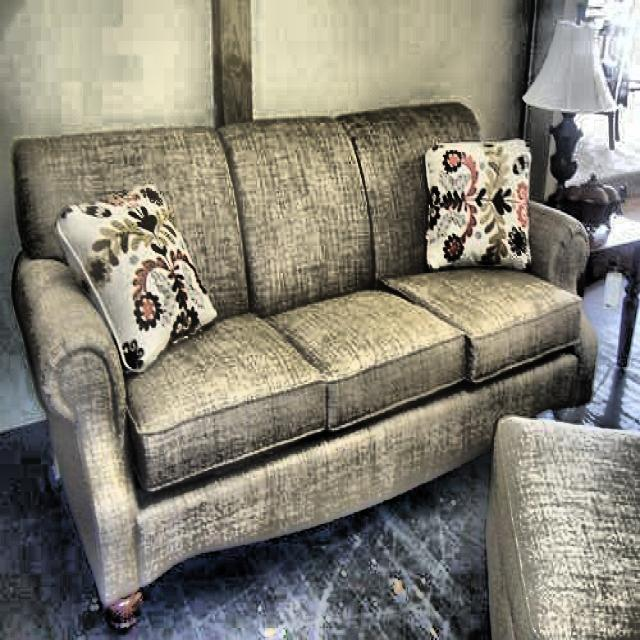sofa: (13, 102, 596, 628)
